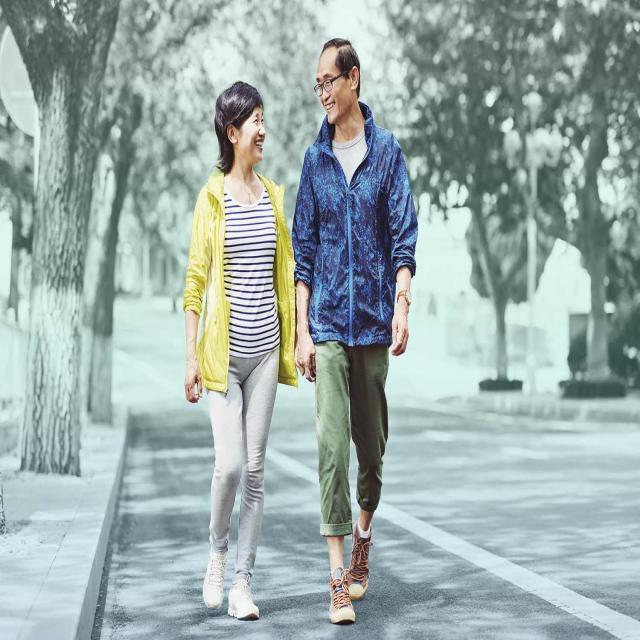Person: (293, 35, 418, 624), (182, 80, 296, 624)
